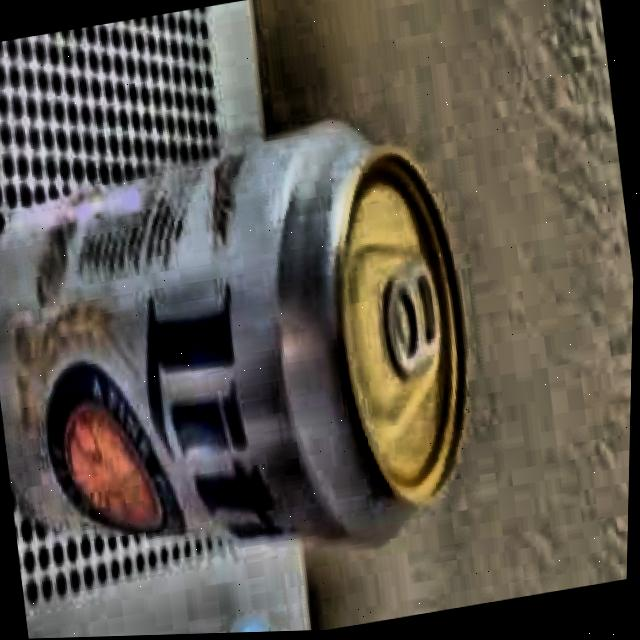metal: (0, 83, 520, 622)
